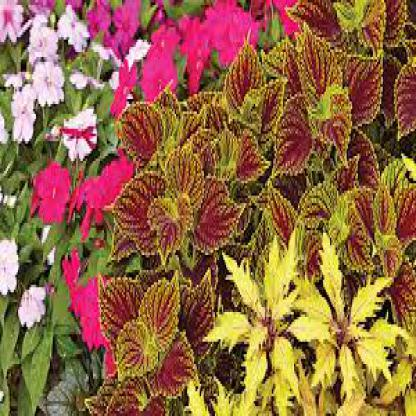Bunga Coleus: (129, 112, 399, 380)
